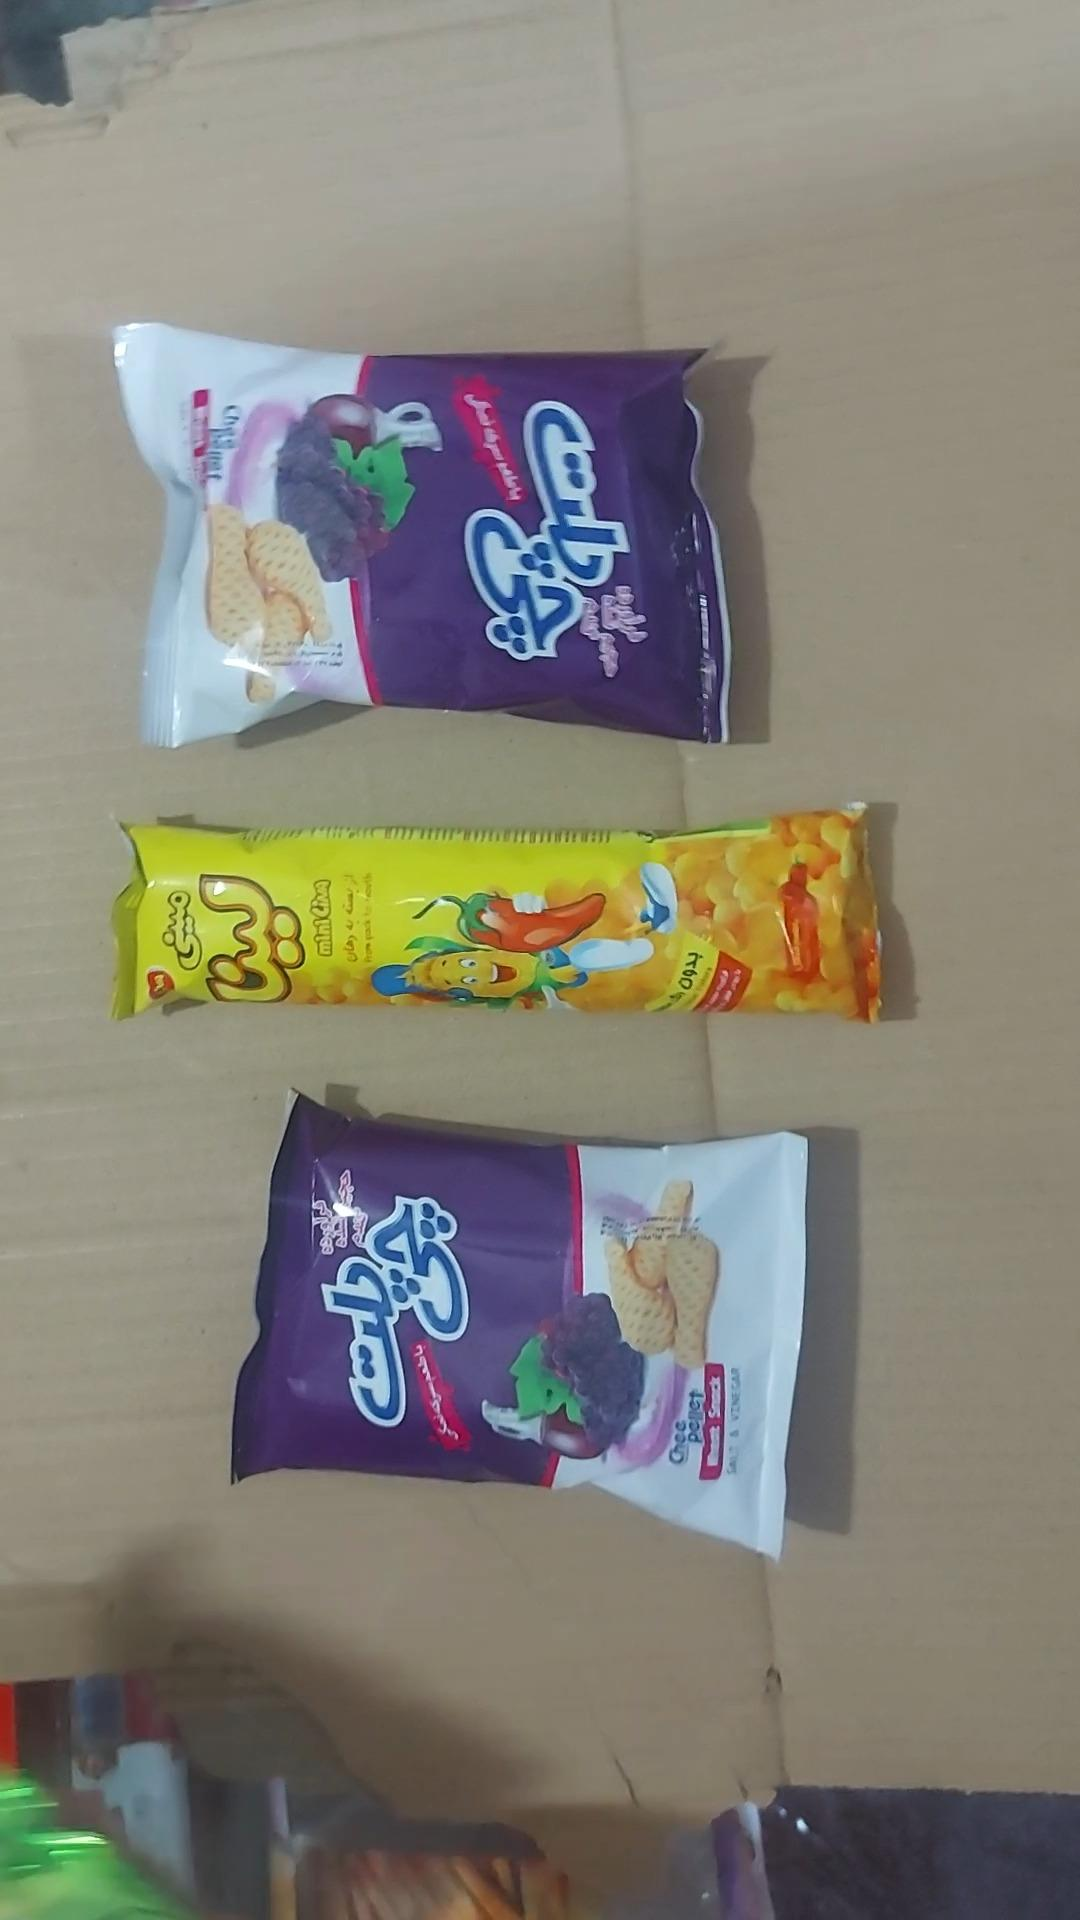Chee pellet vinegar: (231, 1097, 807, 1560), (113, 324, 731, 746)
Mini Lina: (112, 806, 881, 1021)
